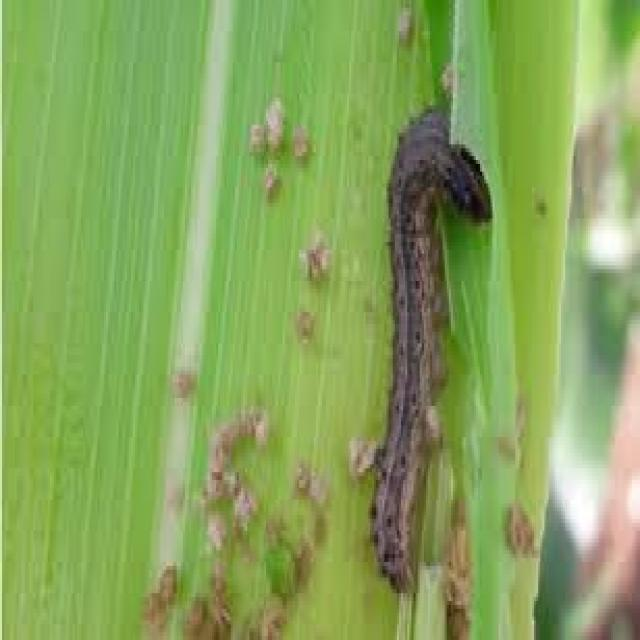armyworm: (372, 116, 492, 588)
